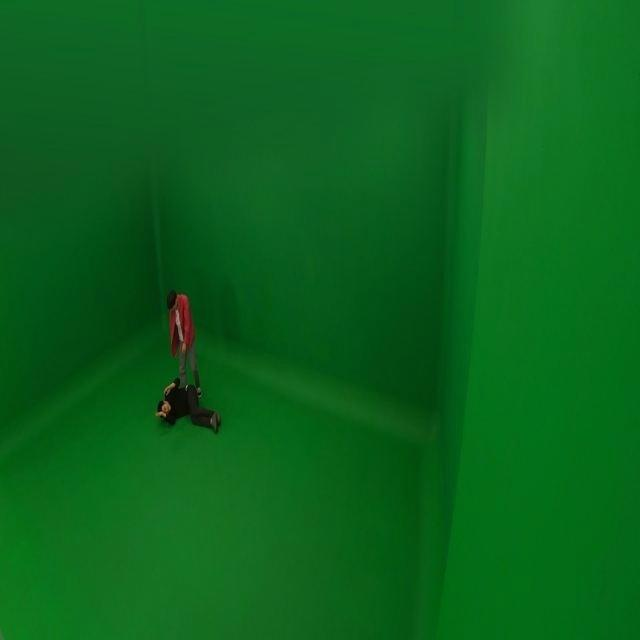fight: (149, 286, 220, 433)
